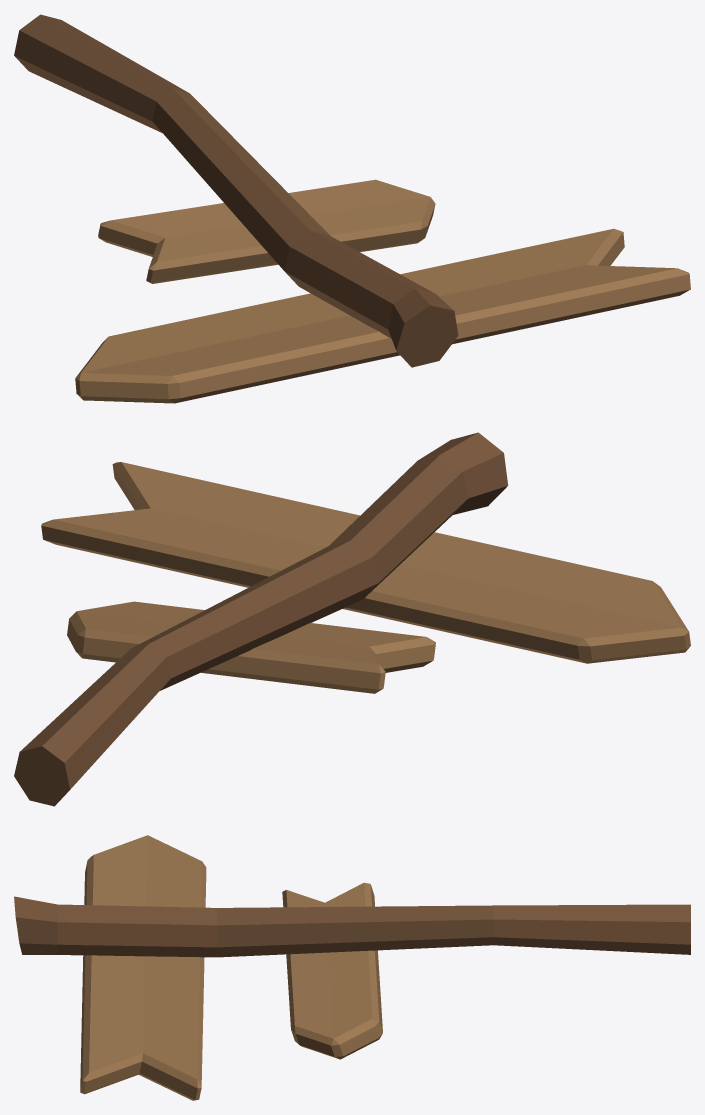
The model's file is Panel_07.fbx.
3 views of the same model, one above another, from view 1: azimuth 30°, elevation 25°; view 2: azimuth 150°, elevation 25°; view 3: azimuth 270°, elevation 25° (orthographic). The views are drawn at different scales.
Parts seen in each view (by area): view 1: Poteau 1*2 fleches LOW Petit.003; view 2: Poteau 1*2 fleches LOW Petit.003; view 3: Poteau 1*2 fleches LOW Petit.003.
Boxes of the visible parts, x1,y1,x2,y2 form: Poteau 1*2 fleches LOW Petit.003: [14, 14, 690, 403]; Poteau 1*2 fleches LOW Petit.003: [14, 432, 690, 806]; Poteau 1*2 fleches LOW Petit.003: [14, 835, 690, 1100].
Size of the model in its own units: 66.31 by 11.33 by 79.74.
